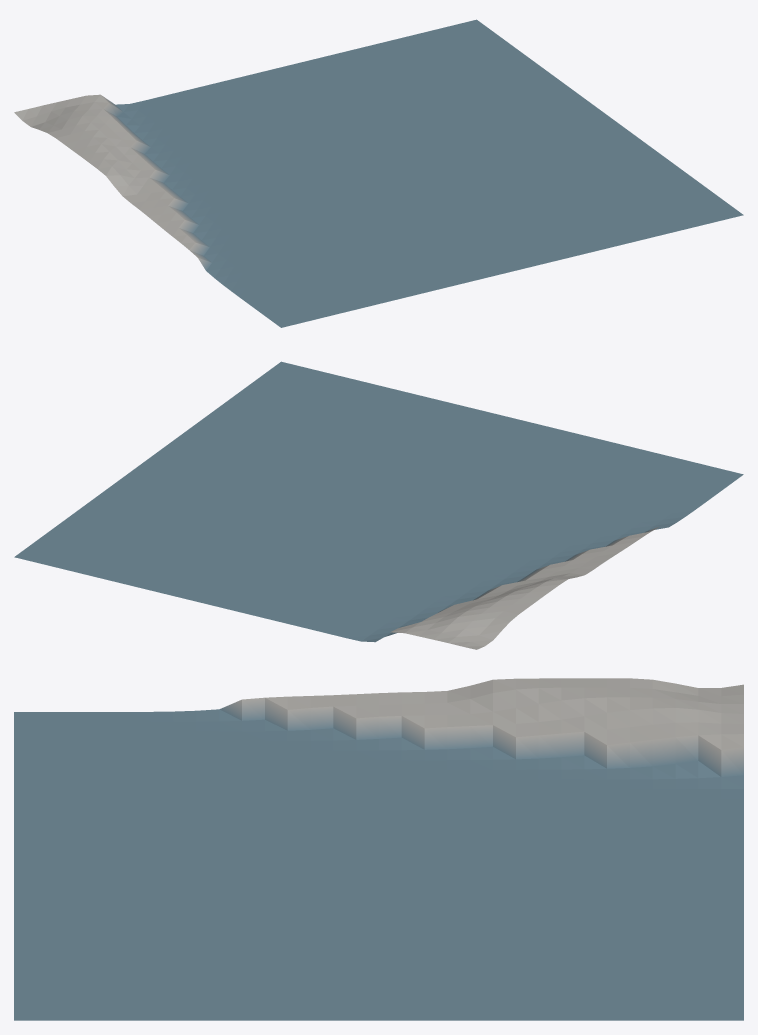
File: tile_2_-5.glb
3 renders of one model, top to bottom at view 1: azimuth 30°, elevation 25°; view 2: azimuth 150°, elevation 25°; view 3: azimuth 270°, elevation 25°, orthographic. The views are drawn at different scales.
Parts seen in each view (by area): view 1: terrain; view 2: terrain; view 3: terrain.
Boxes of the visible parts, x1=… form: terrain: x1=14, y1=19, x2=743, y2=327; terrain: x1=14, y1=361, x2=743, y2=649; terrain: x1=14, y1=678, x2=743, y2=1020.
Size of the model in its own units: 256 by 13.24 by 256.
